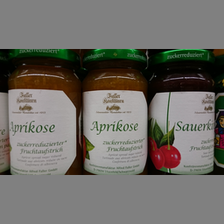jam: (8, 49, 81, 176), (81, 49, 149, 174), (149, 50, 217, 174)
